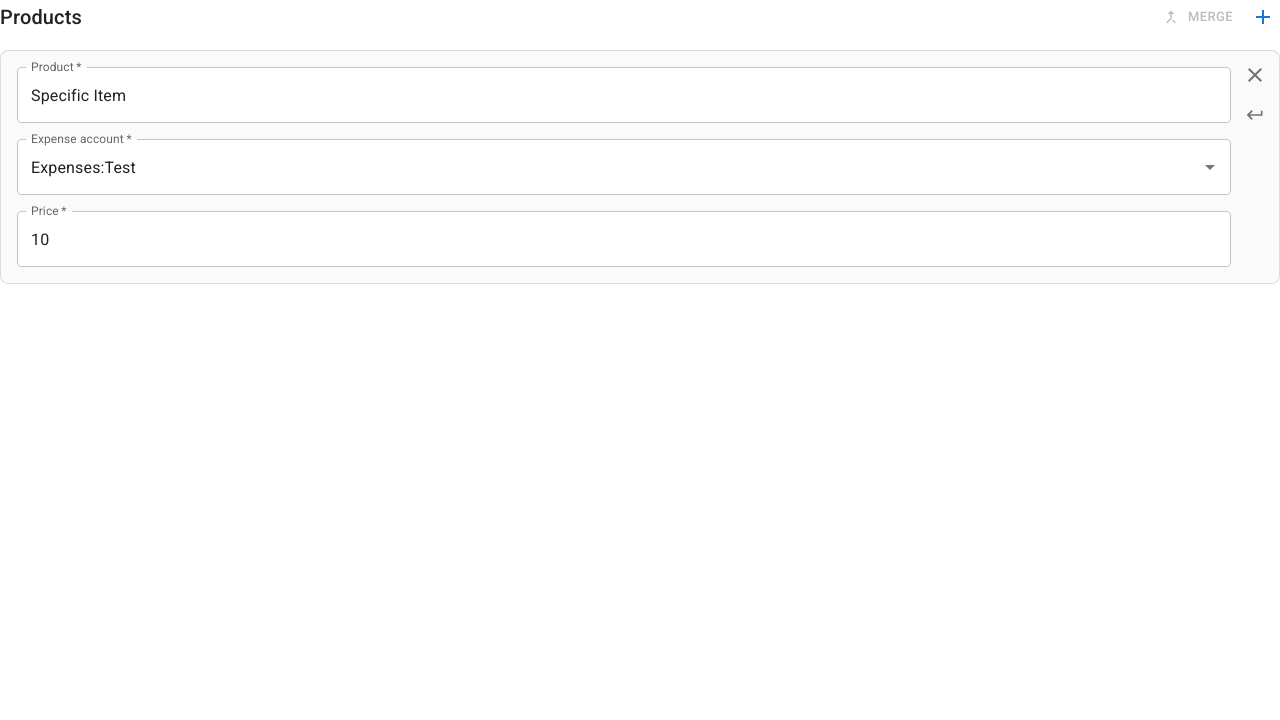
Test: ReceiptItemList - Price Assignment Feature › Price Assignment Modal › should show correct item name in modal
Click the button titled "Assign price difference to this item" at coordinates (1255, 115), box x1=1235 y1=95 x2=1275 y2=135
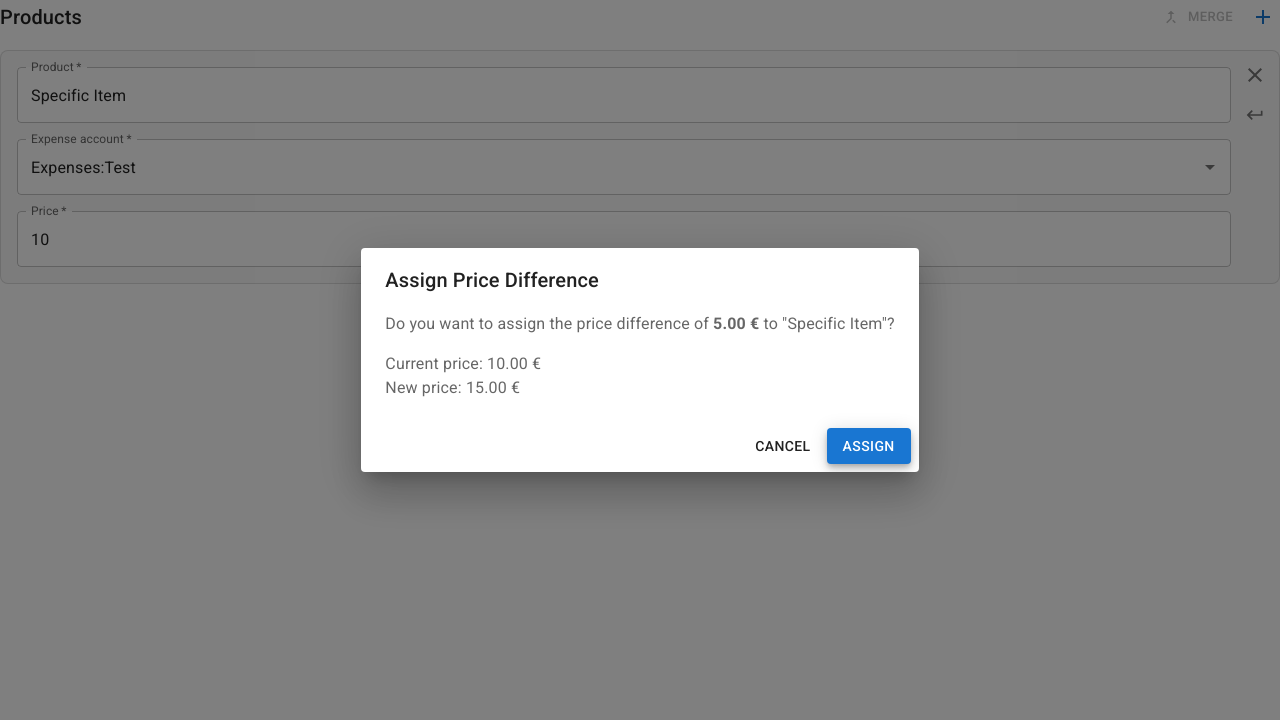
Check: the text "Specific Item" is shown, box x1=787 y1=314 x2=882 y2=333
